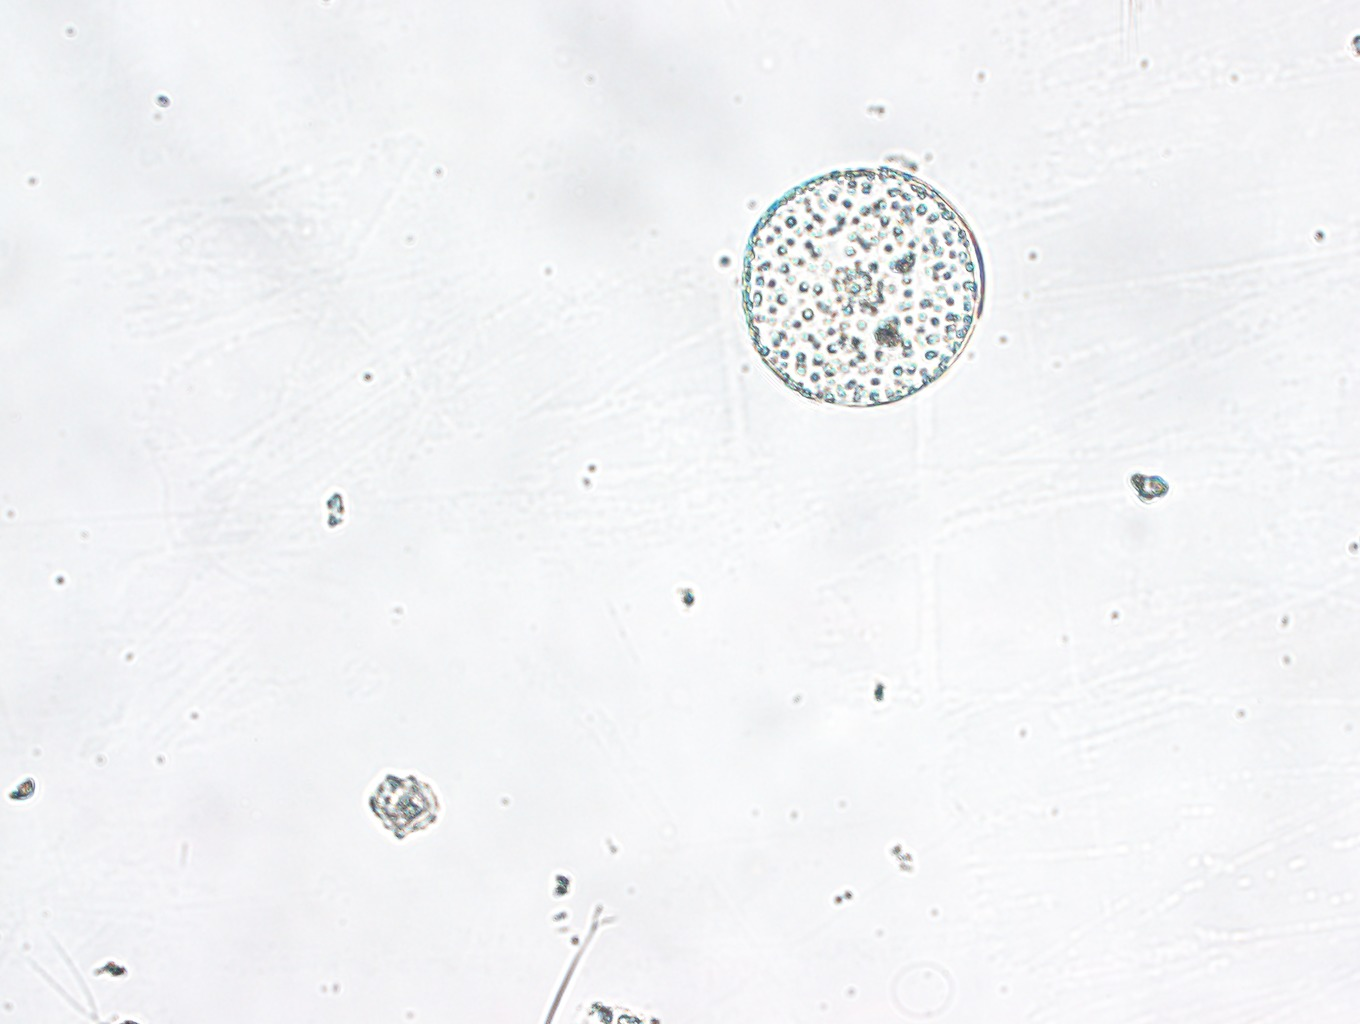coscinodiscus: (739, 166, 984, 411)
